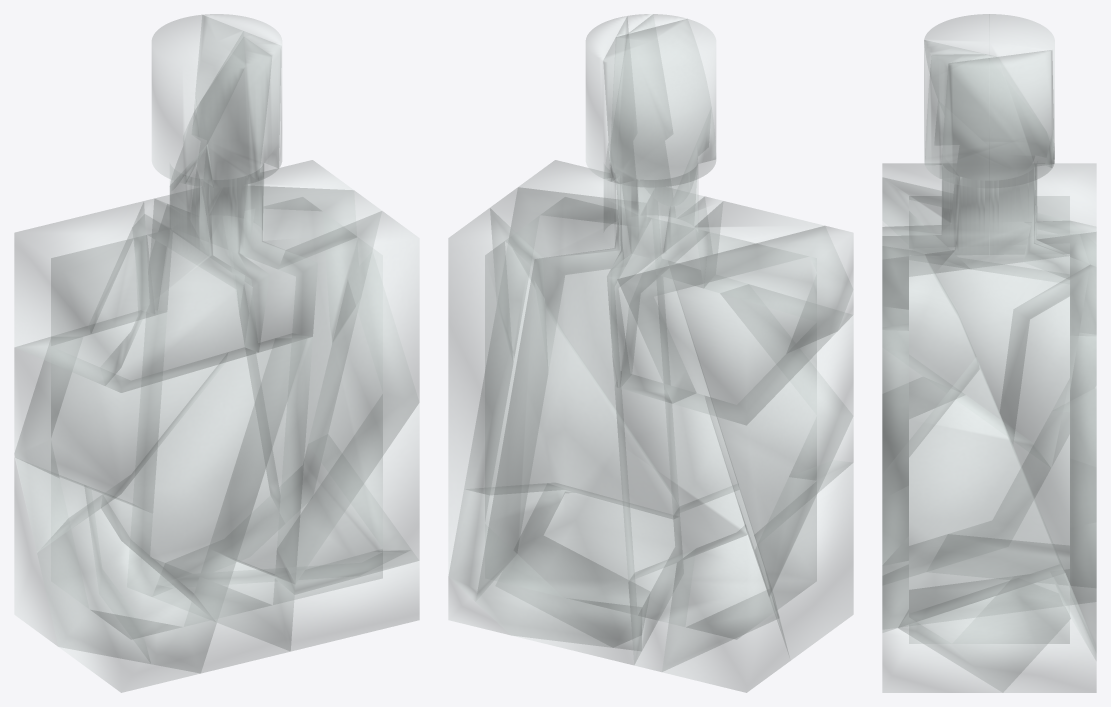
The model's file is fracture-solids.glb.
The picture shows the model from 3 angles, left to right: view 1: azimuth 30°, elevation 25°; view 2: azimuth 150°, elevation 25°; view 3: azimuth 270°, elevation 25°; orthographic projection.
Visible parts, largest first — view 1: fragment-008, fragment-016, fragment-007, fragment-006, fragment-002, fragment-009, fragment-017, fragment-000, fragment-019, fragment-018, fragment-015, fragment-011 (+7 smaller); view 2: fragment-002, fragment-010, fragment-000, fragment-009, fragment-006, fragment-019, fragment-012, fragment-004, fragment-016, fragment-001, fragment-011, fragment-008 (+7 smaller); view 3: fragment-011, fragment-007, fragment-018, fragment-010, fragment-006, fragment-012, fragment-008, fragment-013, fragment-017, fragment-002, fragment-000, fragment-019 (+6 smaller).
Boxes of the visible parts, x1,y1,x2,y2 form: fragment-008: [277, 211, 419, 583]; fragment-016: [101, 338, 306, 622]; fragment-007: [275, 280, 419, 594]; fragment-006: [14, 337, 227, 552]; fragment-002: [150, 187, 270, 562]; fragment-009: [91, 145, 258, 392]; fragment-017: [37, 495, 216, 692]; fragment-000: [14, 201, 149, 385]; fragment-019: [133, 37, 271, 351]; fragment-018: [157, 31, 317, 352]; fragment-015: [91, 489, 294, 672]; fragment-011: [196, 14, 381, 343]; fragment-002: [476, 216, 641, 664]; fragment-010: [448, 208, 547, 601]; fragment-000: [617, 226, 853, 425]; fragment-009: [620, 108, 853, 403]; fragment-006: [705, 293, 853, 597]; fragment-019: [607, 14, 722, 387]; fragment-012: [448, 489, 649, 647]; fragment-004: [615, 374, 747, 581]; fragment-016: [677, 286, 853, 534]; fragment-001: [603, 19, 715, 206]; fragment-011: [490, 16, 639, 370]; fragment-008: [511, 160, 671, 489]; fragment-011: [925, 50, 1089, 447]; fragment-007: [882, 357, 1064, 632]; fragment-018: [882, 54, 1088, 330]; fragment-010: [1000, 265, 1096, 651]; fragment-006: [909, 269, 1069, 443]; fragment-012: [898, 565, 1096, 692]; fragment-008: [882, 254, 978, 563]; fragment-013: [882, 565, 1070, 692]; fragment-017: [909, 395, 1033, 545]; fragment-002: [1023, 207, 1096, 659]; fragment-000: [882, 163, 1096, 282]; fragment-019: [882, 40, 1096, 266].
Size of the model in its own units: 0.0542 by 0.1 by 0.0336.
1 material, 1 textured.
